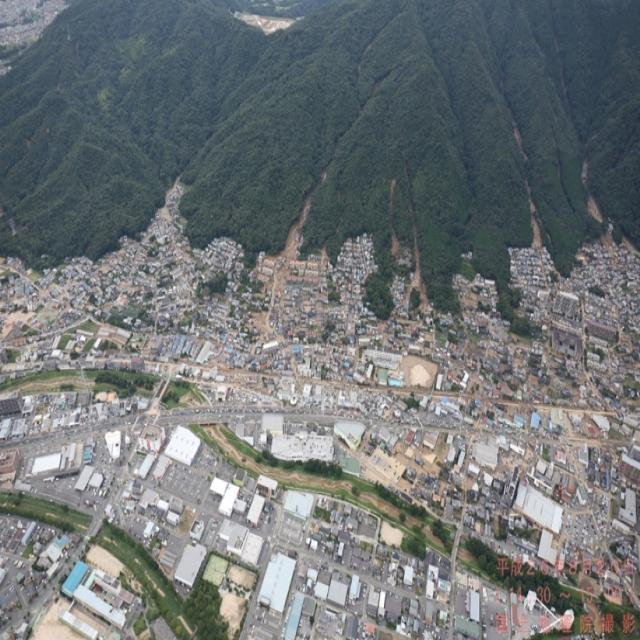Debris-flow: (1, 0, 70, 76), (285, 188, 316, 252), (234, 12, 299, 35), (526, 180, 541, 246), (390, 178, 399, 252), (513, 122, 528, 158), (588, 195, 601, 222), (416, 223, 420, 278), (581, 161, 587, 183), (320, 169, 326, 181)
landslide: (282, 182, 319, 254), (235, 14, 296, 34), (390, 180, 399, 248), (531, 199, 542, 248), (586, 195, 602, 222), (415, 238, 421, 283)
